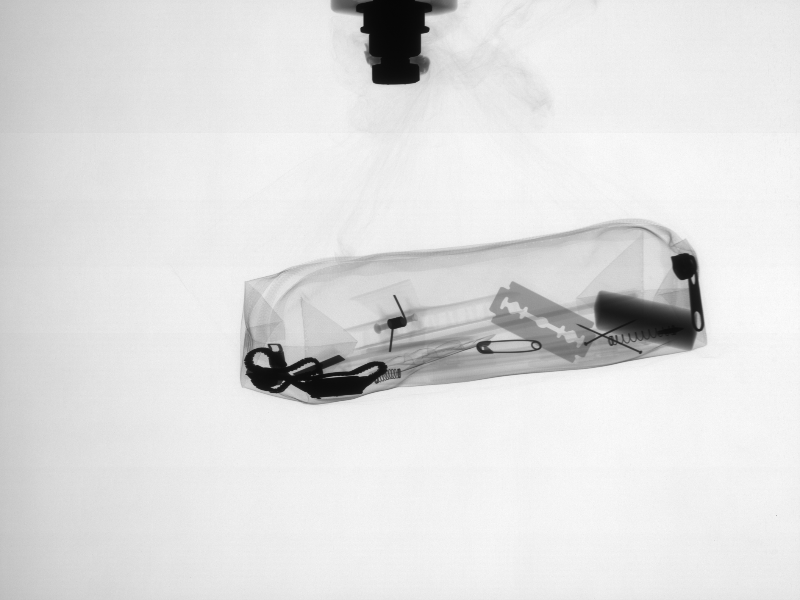bobby pin: (470, 337, 549, 355)
needle: (578, 323, 644, 353)
rasor blade: (490, 279, 593, 363)
rope: (242, 343, 383, 398)
string: (604, 332, 675, 343)
